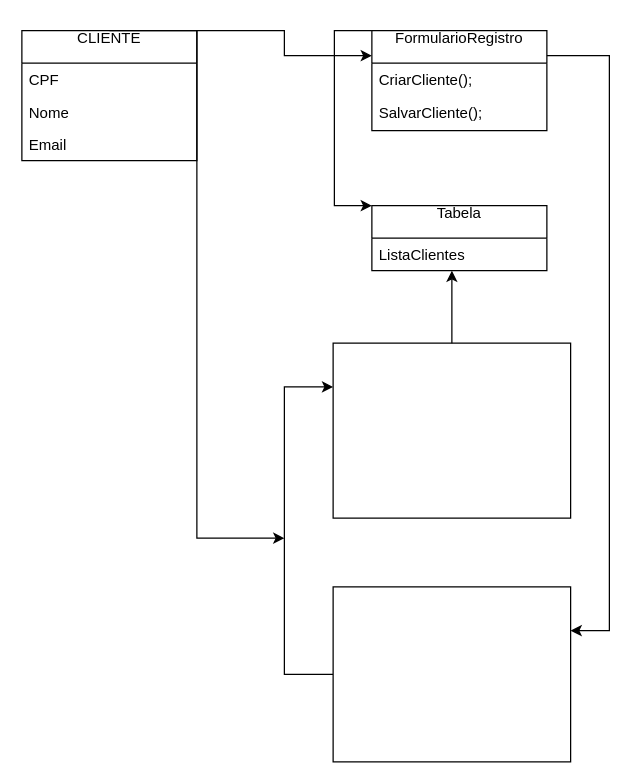
Image size: 641x784. Some labels were removed from this diagram. Here are the shapes that lost their labels. From the top down, the centre of each, then its label:
At point (451, 430): "RequisiçõesCliente Criar; Listar Excluir(CPF); Buscar(CPF); Atualizar(CPF);".
At point (451, 674): "API clienteCPF; GET; POST; PUT; DELETE;".
